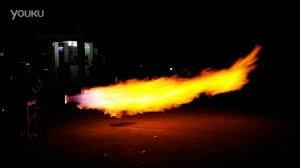fire: (82, 55, 263, 116)
